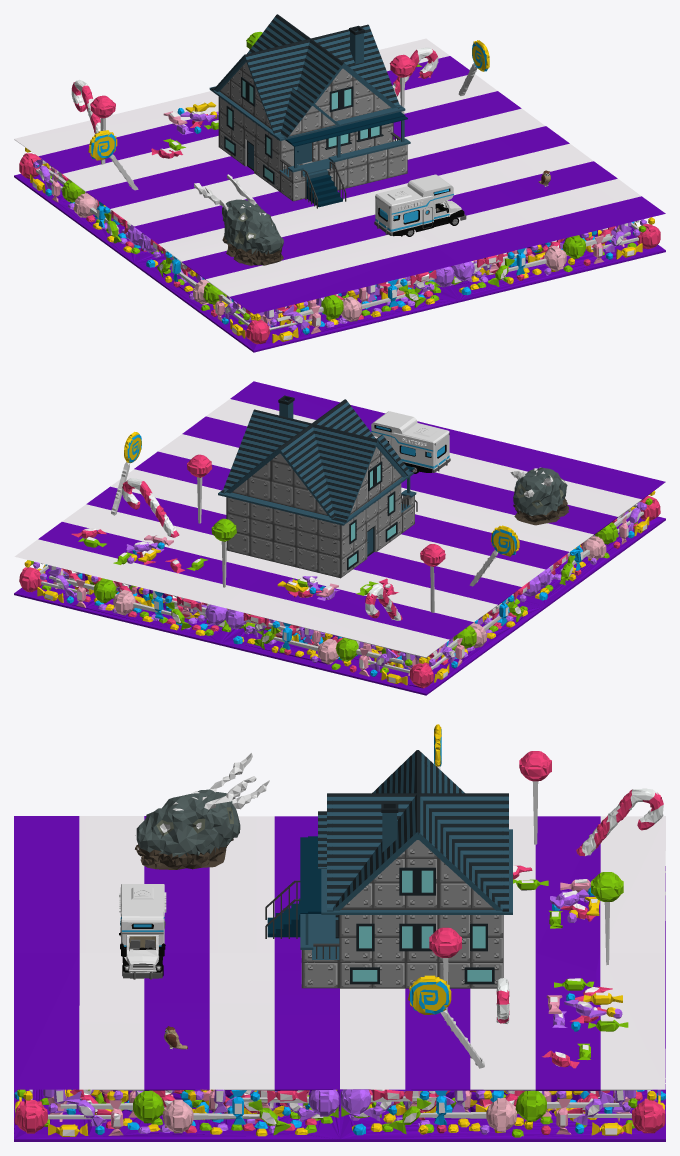
3 views of the same model, one above another, from view 1: azimuth 30°, elevation 25°; view 2: azimuth 150°, elevation 25°; view 3: azimuth 270°, elevation 25° (orthographic). The views are drawn at different scales.
Parts seen in each view (by area): view 1: TERRAIN_CANDY, Cube.078, VEHICLES_CAMPER, OBJRANDOM_METEORITE; view 2: TERRAIN_CANDY, Cube.078, VEHICLES_CAMPER, OBJRANDOM_METEORITE; view 3: TERRAIN_CANDY, Cube.078, OBJRANDOM_METEORITE, VEHICLES_CAMPER.
Boxes of the visible parts, x1,y1,x2,y2 form: TERRAIN_CANDY: (14,31,665,352); Cube.078: (209,14,410,208); VEHICLES_CAMPER: (374,174,466,236); OBJRANDOM_METEORITE: (194,174,283,265); TERRAIN_CANDY: (14,381,665,695); Cube.078: (218,395,417,578); VEHICLES_CAMPER: (371,411,450,473); OBJRANDOM_METEORITE: (510,467,568,525); TERRAIN_CANDY: (14,724,665,1141); Cube.078: (265,750,512,988); OBJRANDOM_METEORITE: (135,753,269,869); VEHICLES_CAMPER: (119,884,166,979).
Bounding box in the file's own units: 4059 × 1562 × 4000.
31 materials, 4 textured.
